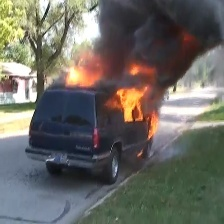fire: (107, 77, 159, 140), (64, 54, 102, 86)
